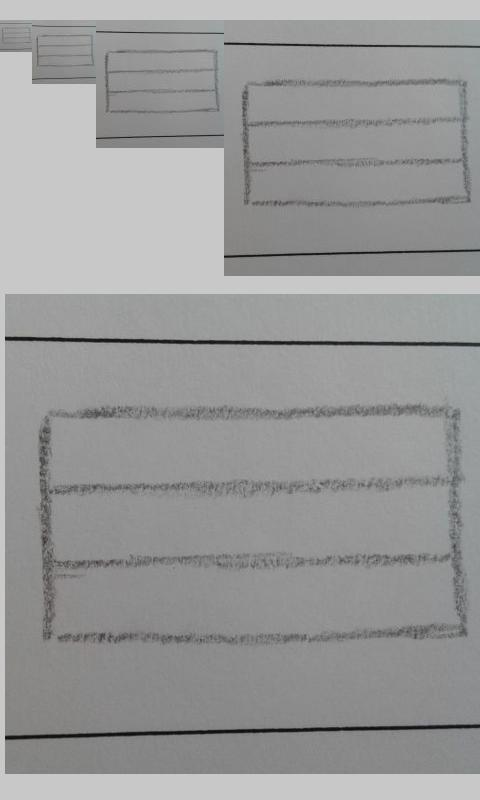list_view: (36, 402, 470, 651), (241, 77, 472, 210), (105, 49, 220, 114), (36, 34, 95, 68), (1, 26, 32, 44)
